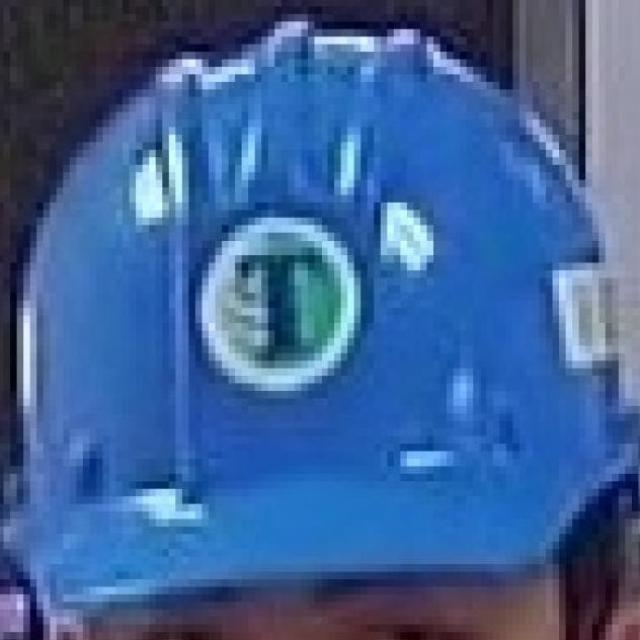blue helmet: (1, 10, 640, 616)
